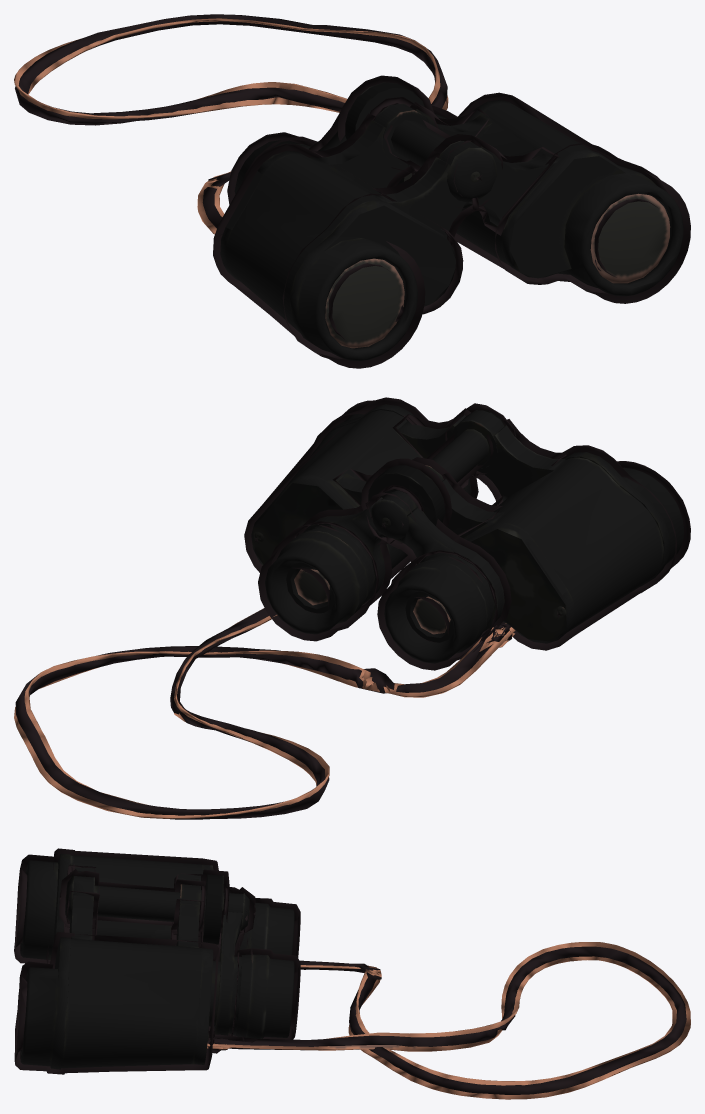
The model's file is SM_Int_Binoculars.fbx.
3 views of the same model, one above another, from view 1: azimuth 30°, elevation 25°; view 2: azimuth 150°, elevation 25°; view 3: azimuth 270°, elevation 25° (orthographic). The views are drawn at different scales.
Parts seen in each view (by area): view 1: SM_Int_Binoculars; view 2: SM_Int_Binoculars; view 3: SM_Int_Binoculars.
Boxes of the visible parts, box(x1,y1,x2,y2) form: SM_Int_Binoculars: box(14, 14, 690, 368); SM_Int_Binoculars: box(14, 397, 690, 819); SM_Int_Binoculars: box(14, 848, 690, 1099).
Bounding box in the file's own units: 0.1692 × 0.07 × 0.2905.
